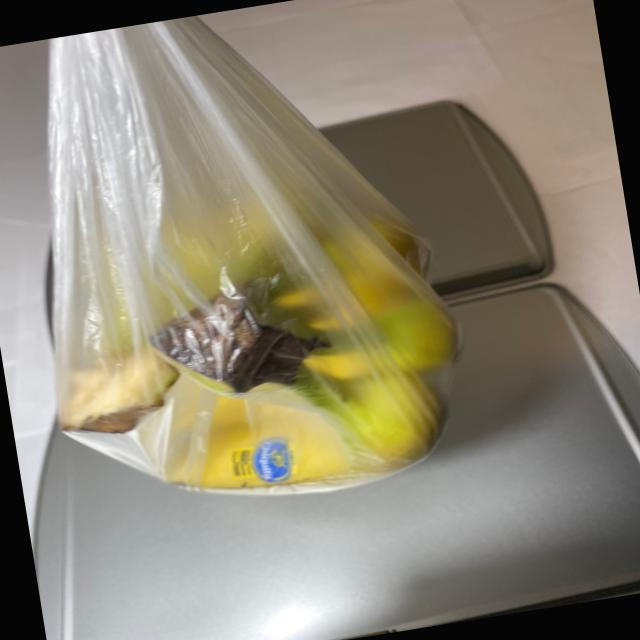banana: (24, 174, 485, 532)
